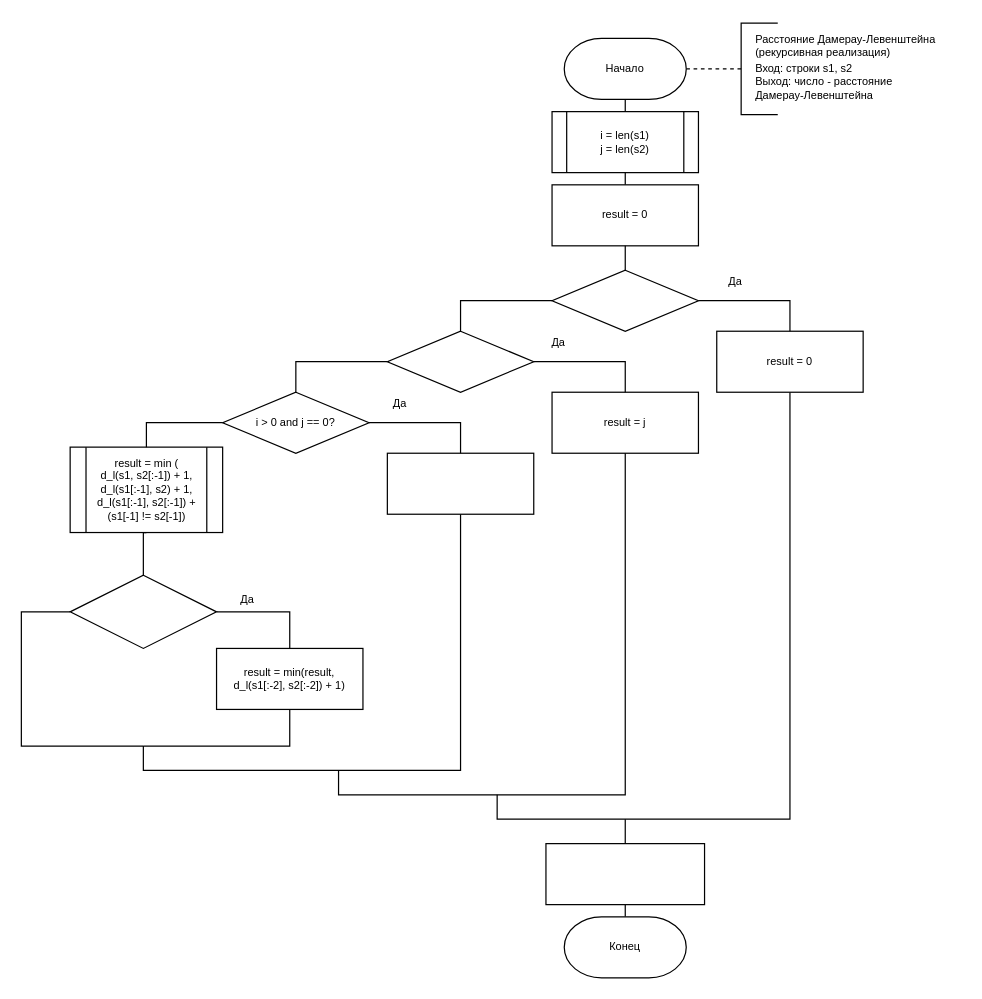
Image size: 982x999. Some labels were removed from this diagram. Here are the shapes that lost their labels. From the top down, the box of each, then its label:
(551, 269, 698, 331): i == 0 and j == 0 ?
(386, 330, 534, 392): i == 0 and j > 0?
(386, 452, 534, 514): result = i
(69, 574, 217, 648): i>1 and j>1and (s1[-1], s1[-2]) == (s2[-2],s2[-1])
(545, 842, 705, 905): Вернуть result
